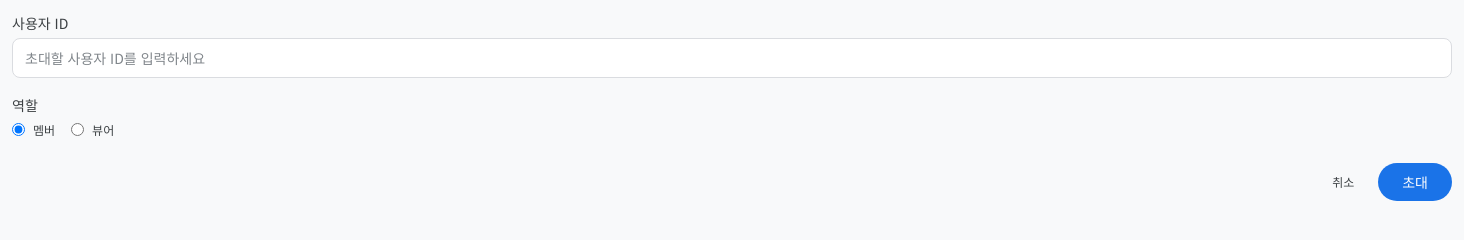
Test: InviteMemberForm › 사용자 ID 미입력 시 유효성 에러가 표시된다
The width and height of the screenshot is (1464, 240).
Click the button "초대": (1415, 182) [1378,163,1452,201]
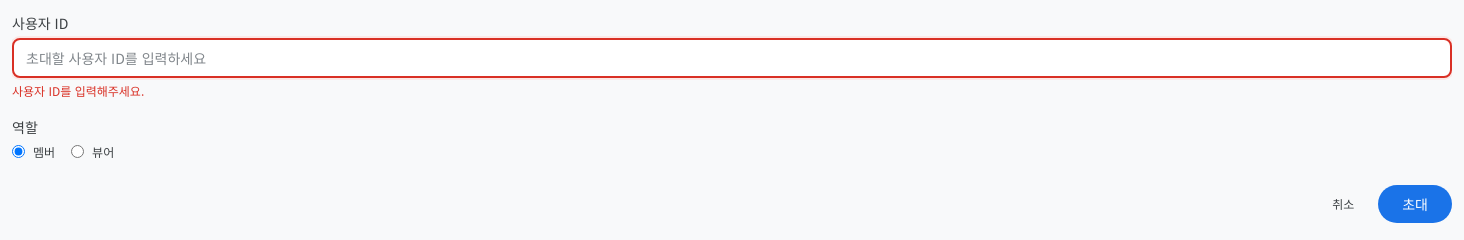
Expected: the text "사용자 ID를 입력해주세요." is shown, [12,82,144,99]
